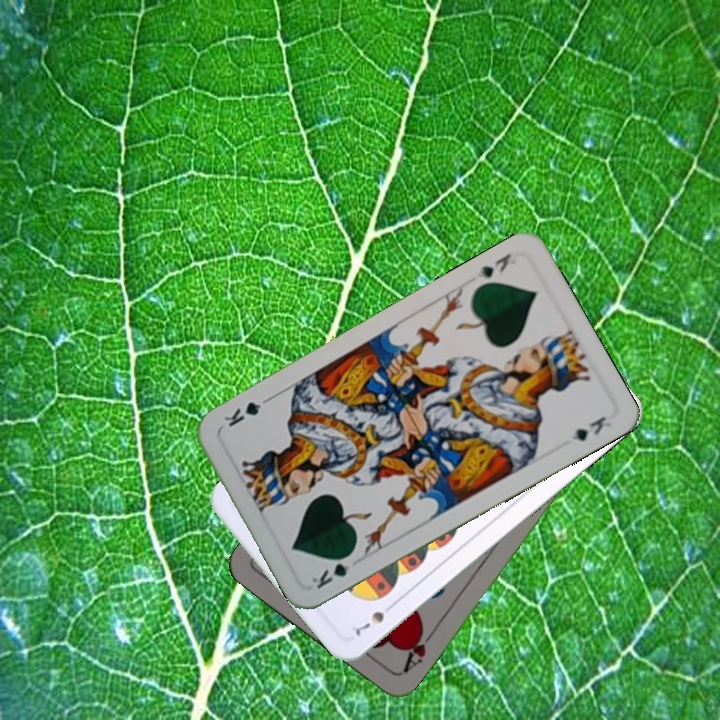GK: (307, 548, 357, 592), (467, 249, 519, 285)
HA: (398, 623, 438, 676)
S7: (351, 598, 398, 638)
